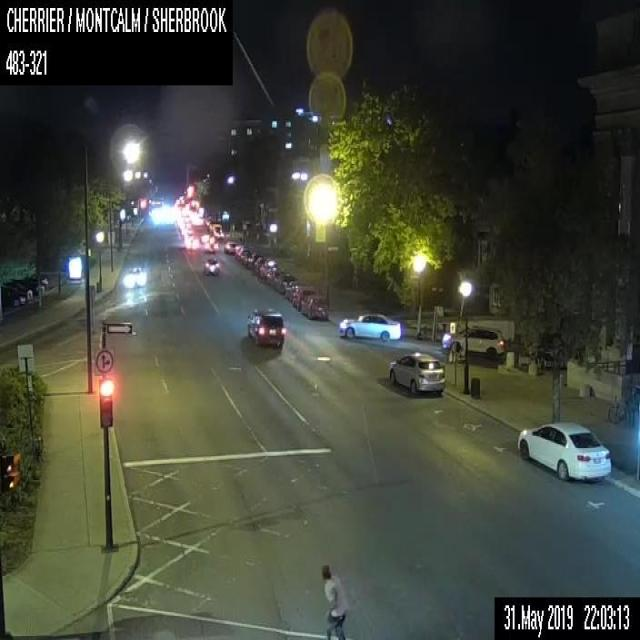pedestrian: (319, 562, 348, 638)
vehicle: (515, 420, 611, 481), (387, 351, 445, 392), (440, 324, 505, 355), (337, 313, 400, 340), (247, 306, 284, 348), (302, 293, 328, 320), (2, 276, 32, 299), (292, 286, 314, 310), (0, 284, 25, 305), (123, 265, 144, 287), (275, 271, 295, 293), (284, 280, 302, 301), (202, 256, 219, 276), (203, 236, 218, 252), (224, 239, 237, 253), (185, 235, 197, 249)
